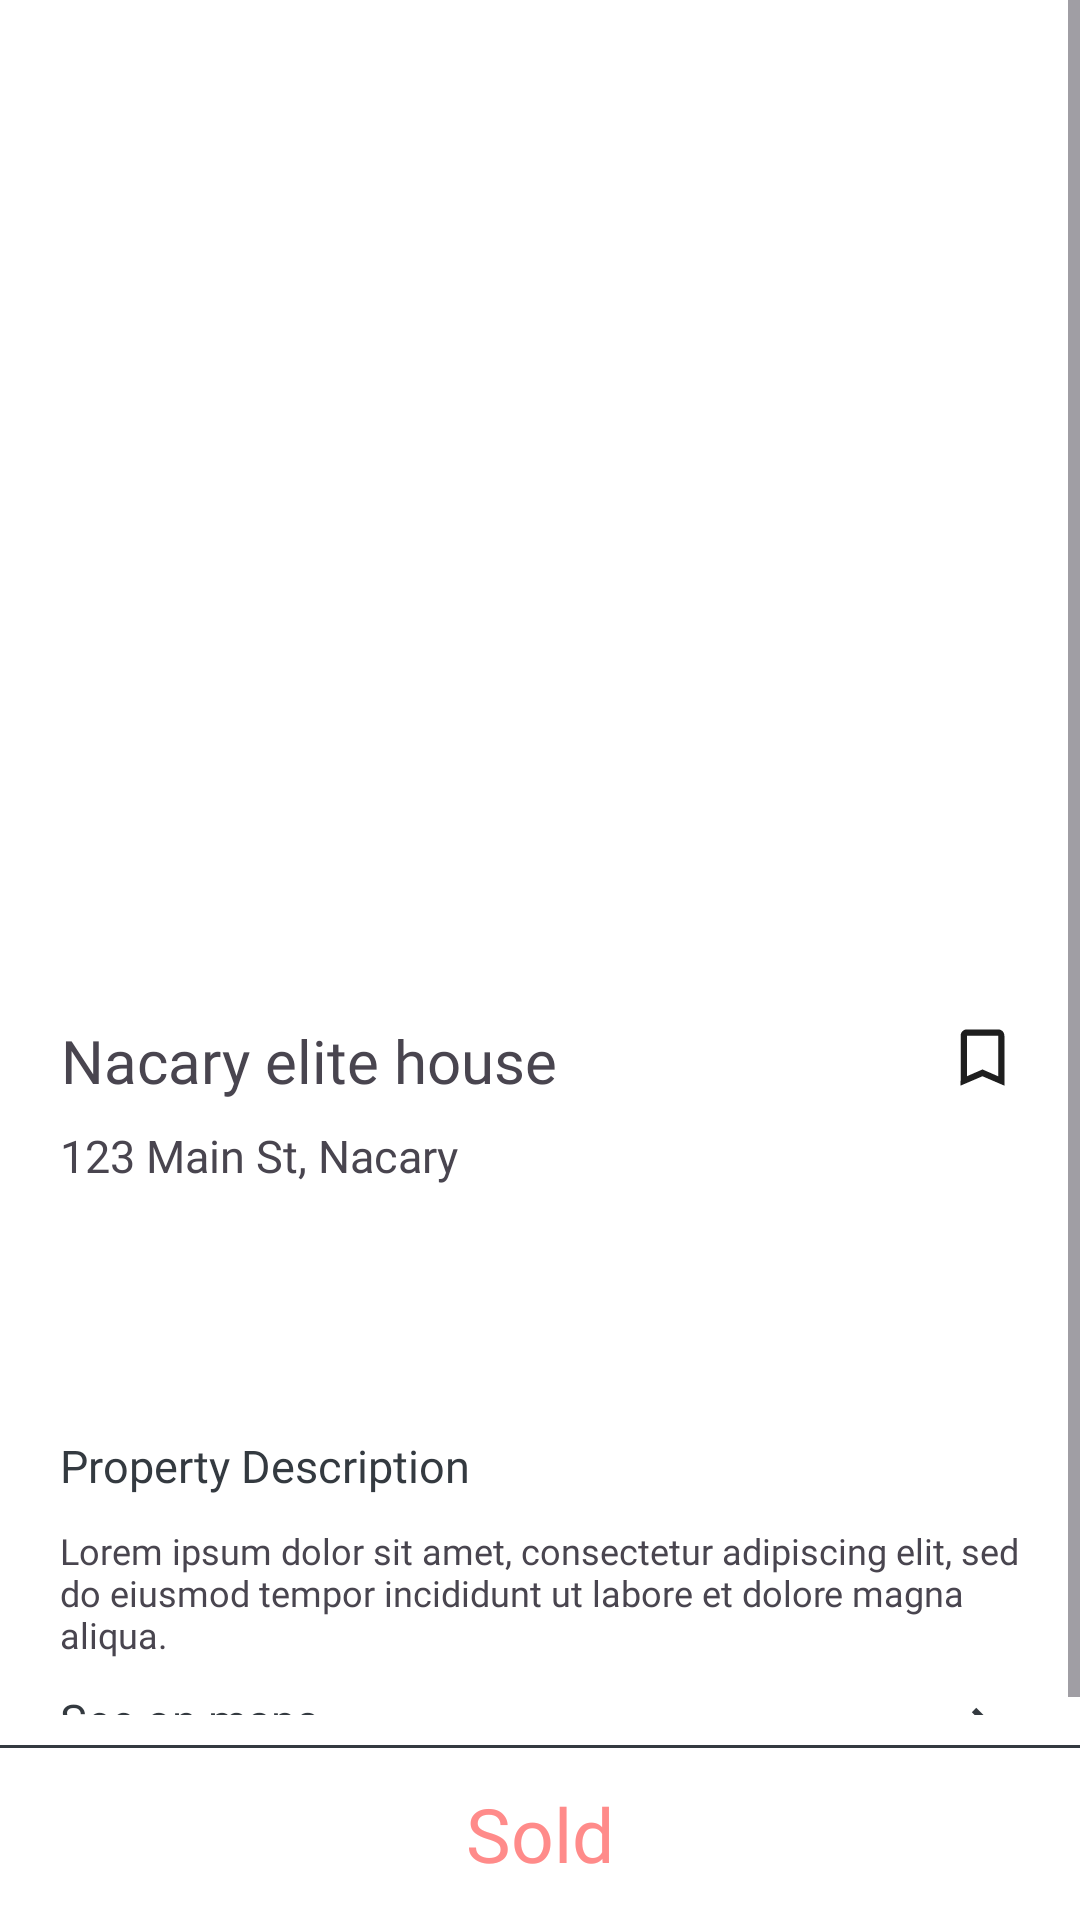

Icons on this 1080 x 1920 Android screen, each with its box as (x1, y1, x2, y2):
bookmark border: (960, 1029, 1005, 1086)
